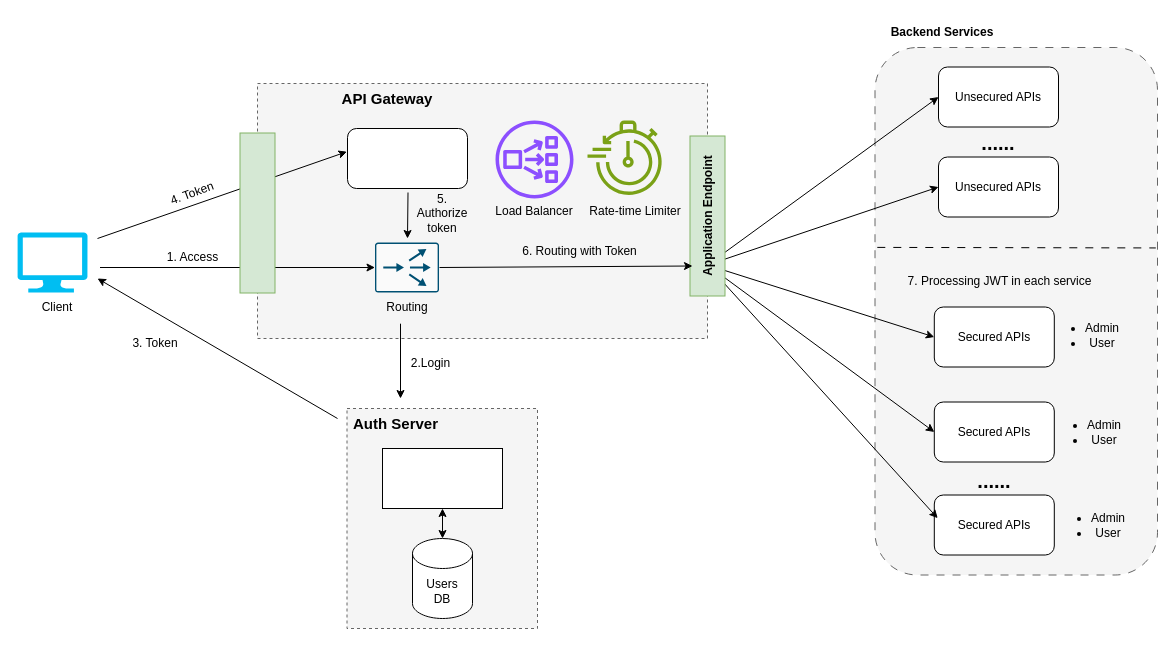
Image size: 1175x646. Some labels were removed from this diagram. The shapes that lost their labels are listed below. From the top down, each one's centre as x and y in pixels, then its label:
At (407,158): "Token Authorizer".
At (257,212): "User Endpoint".
At (442,478): "Identity Provider".
